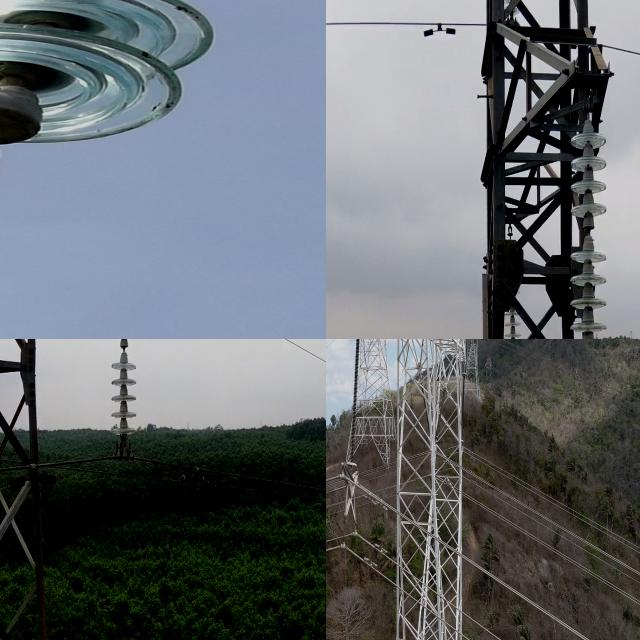杆塔: (469, 0, 633, 339), (0, 339, 151, 640), (362, 339, 467, 640)
正常电缆: (471, 491, 640, 610), (471, 555, 602, 640), (326, 7, 465, 39)
正常绝缘子: (0, 0, 260, 339), (564, 104, 610, 339), (104, 339, 141, 451), (346, 339, 363, 469), (459, 371, 466, 444)
绝缘子破损: (0, 98, 53, 151), (581, 220, 596, 246), (119, 342, 129, 358)
